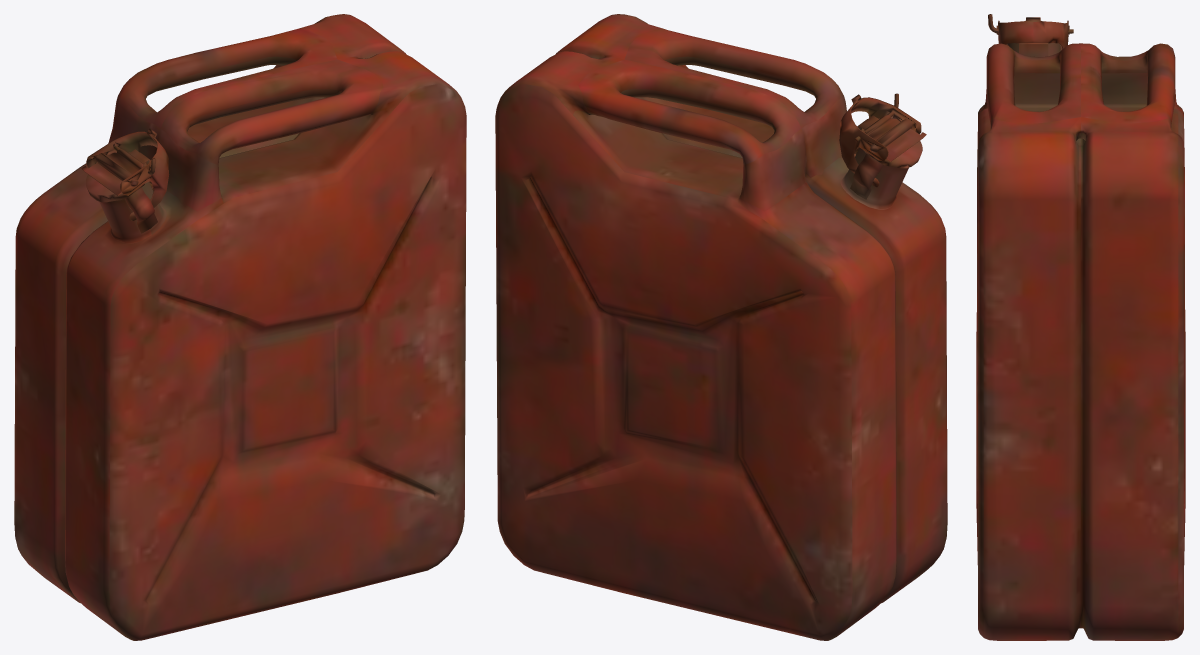
Rendered from metal_jerrycan.glb.
3 views of the same model, side by side, from view 1: azimuth 30°, elevation 25°; view 2: azimuth 150°, elevation 25°; view 3: azimuth 270°, elevation 25° (orthographic). The views are drawn at different scales.
Parts seen in each view (by area): view 1: metal_jerrycan; view 2: metal_jerrycan; view 3: metal_jerrycan.
Boxes of the visible parts, box(x1,y1,x2,y2) form: metal_jerrycan: box(14, 14, 466, 640); metal_jerrycan: box(495, 14, 947, 640); metal_jerrycan: box(976, 14, 1185, 640).
Size of the model in its own units: 0.3501 by 0.4549 by 0.1718.
1 material, 1 textured.
